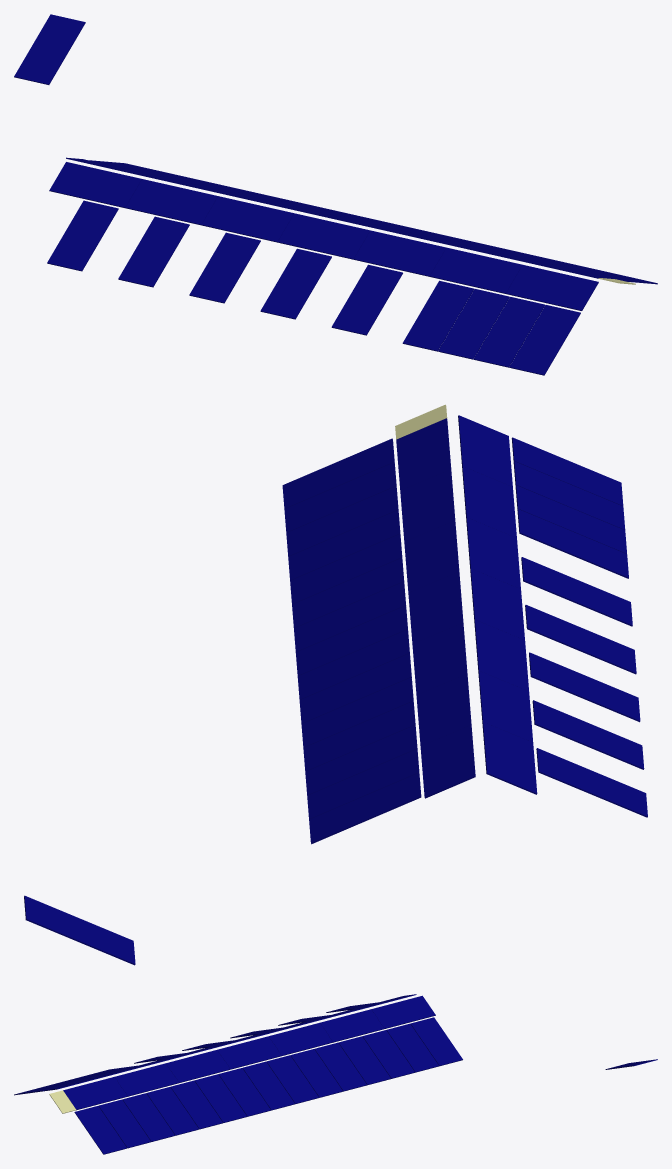
The model's file is edited-model.glb.
3 views of the same model, one above another, from view 1: azimuth 30°, elevation 25°; view 2: azimuth 150°, elevation 25°; view 3: azimuth 270°, elevation 25° (orthographic). The views are drawn at different scales.
Parts seen in each view (by area): view 1: 2378183186598428672, 2378183186330009600, 2378183186330042368, 2378183186330075136, 2378183186329911296, 2378183186330091520, 2378183186329944064, 2378183186329976832, 2378183186330107904, 2378183186330124288, 2378183186330058752, 2378183186598330368 (+5 smaller); view 2: 2378183190893297664, 2378183190624862208, 2378183190893314048, 2378183190893330432, 2378183190893428736, 2378183190893461504, 2378183190893477888, 2378183190893445120, 2378183190893346816, 2378183190893379584, 2378183190893395968, 2378183190893412352 (+27 smaller); view 3: 2378183190893379584, 2378183190893461504, 2378183190893510656, 2378183190893297664, 2378183190893330432, 2378183190893346816, 2378183190893363200, 2378183190893412352, 2378183190624878592, 2378183190624944128, 2378183190893314048, 2378183190893395968 (+11 smaller).
Boxes of the visible parts, box(x1,y1,x2,y2) form: 2378183186598428672: box(506, 265, 598, 310); 2378183186330009600: box(260, 248, 331, 319); 2378183186330042368: box(331, 264, 402, 335); 2378183186330075136: box(402, 280, 474, 351); 2378183186329911296: box(47, 200, 118, 271); 2378183186330091520: box(438, 289, 509, 359); 2378183186329944064: box(118, 216, 189, 287); 2378183186329976832: box(189, 232, 260, 303); 2378183186330107904: box(473, 297, 545, 367); 2378183186330124288: box(509, 305, 580, 375); 2378183186330058752: box(14, 14, 85, 84); 2378183186598330368: box(49, 162, 141, 208); 2378183190893297664: box(309, 773, 421, 844); 2378183190624862208: box(420, 725, 475, 798); 2378183190893314048: box(307, 749, 419, 819); 2378183190893330432: box(305, 725, 417, 795); 2378183190893428736: box(294, 581, 406, 652); 2378183190893461504: box(290, 534, 402, 604); 2378183190893477888: box(288, 510, 400, 580); 2378183190893445120: box(292, 558, 404, 628); 2378183190893346816: box(303, 701, 415, 771); 2378183190893379584: box(299, 653, 411, 723); 2378183190893395968: box(297, 629, 409, 699); 2378183190893412352: box(295, 605, 407, 675); 2378183190893379584: box(290, 1049, 343, 1097); 2378183190893461504: box(170, 1080, 222, 1129); 2378183190893510656: box(98, 1099, 150, 1148); 2378183190893297664: box(410, 1017, 462, 1066); 2378183190893330432: box(362, 1030, 414, 1078); 2378183190893346816: box(338, 1036, 390, 1085); 2378183190893363200: box(314, 1042, 366, 1091); 2378183190893412352: box(242, 1061, 294, 1110); 2378183190624878592: box(320, 1009, 384, 1042); 2378183190624944128: box(114, 1063, 178, 1096); 2378183190893314048: box(386, 1023, 438, 1072); 2378183190893395968: box(266, 1055, 318, 1104).
Size of the model in its own units: 14.41 by 1.6 by 26.28.
